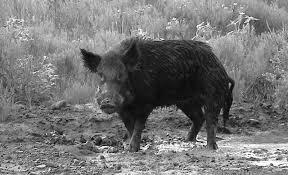wildboar: (79, 34, 236, 153)
